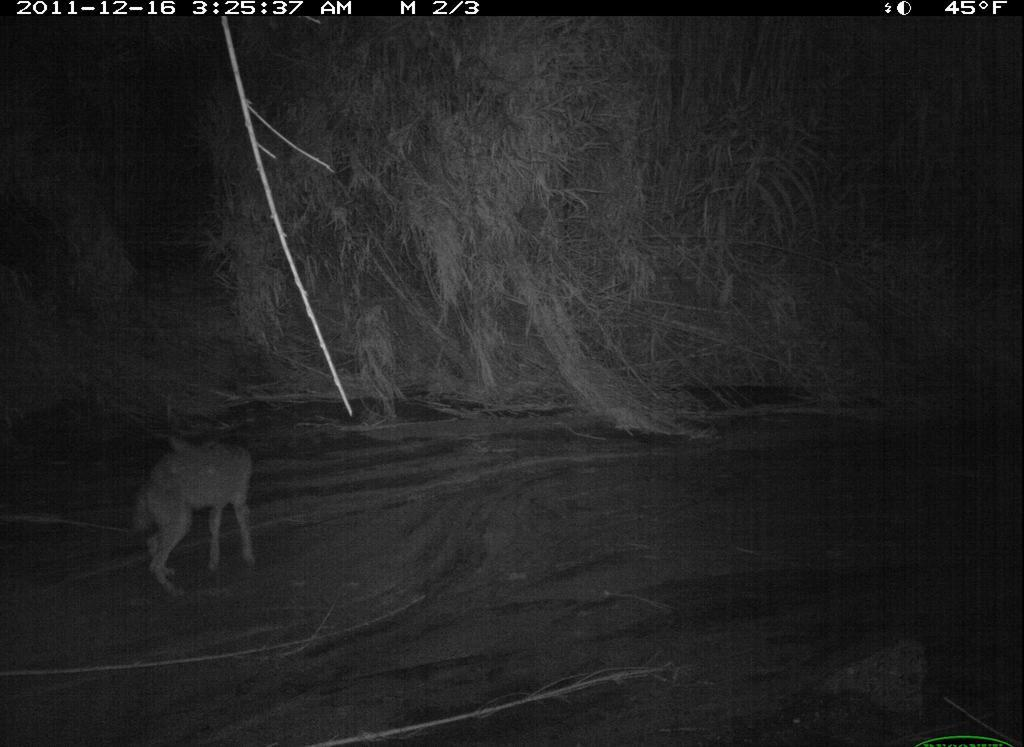coyote: (134, 425, 274, 584)
